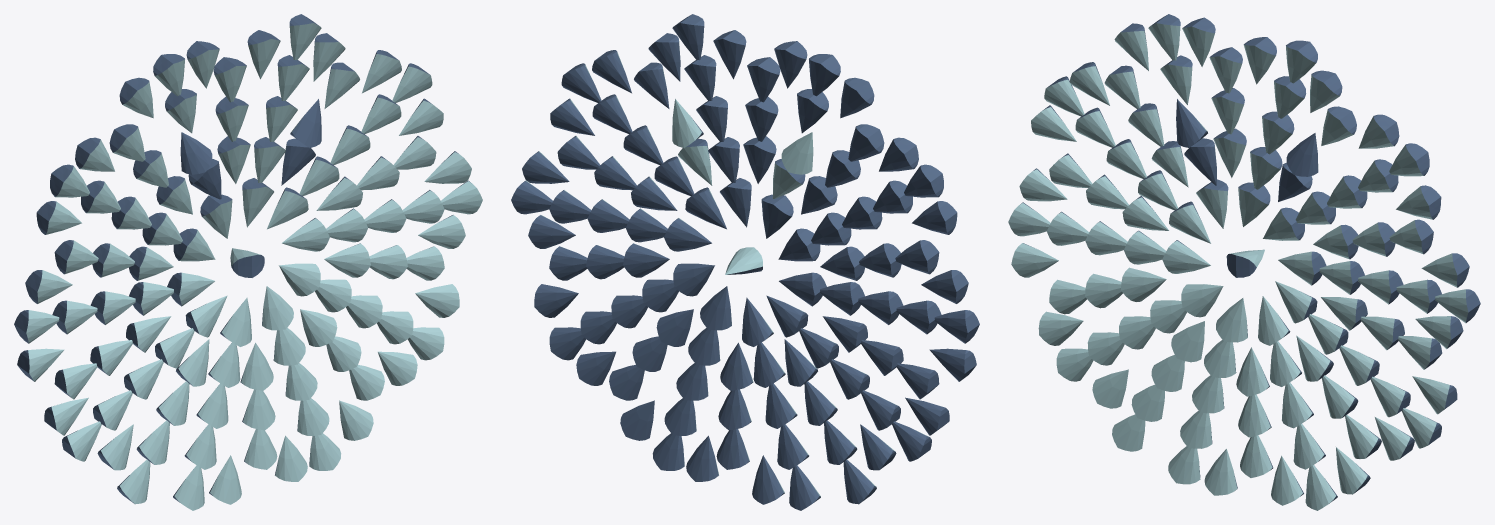
The model's file is Wedges.C.fbx.
3 views of the same model, side by side, from view 1: azimuth 30°, elevation 25°; view 2: azimuth 150°, elevation 25°; view 3: azimuth 330°, elevation 25° (orthographic).
Visible parts, largest first — view 1: Wedge.C.096, Wedge.C.049, Wedge.C.091, Wedge.C.099, Wedge.C.050, Wedge.C.048, Wedge.C.045, Wedge.C.000, Wedge.C.033, Wedge.C.010, Wedge.C.060, Wedge.C.006 (+89 smaller); view 2: Wedge.C.096, Wedge.C.049, Wedge.C.091, Wedge.C.099, Wedge.C.050, Wedge.C.048, Wedge.C.045, Wedge.C.000, Wedge.C.033, Wedge.C.010, Wedge.C.060, Wedge.C.006 (+89 smaller); view 3: Wedge.C.030, Wedge.C.080, Wedge.C.028, Wedge.C.061, Wedge.C.015, Wedge.C.076, Wedge.C.027, Wedge.C.019, Wedge.C.029, Wedge.C.069, Wedge.C.066, Wedge.C.070 (+89 smaller).
Part boxes in pixels (x1,y1,x2,y2): Wedge.C.096: (300, 309, 337, 346); Wedge.C.049: (75, 137, 114, 171); Wedge.C.091: (279, 263, 320, 296); Wedge.C.099: (378, 351, 417, 385); Wedge.C.050: (119, 77, 153, 118); Wedge.C.048: (109, 124, 145, 161); Wedge.C.045: (50, 164, 89, 197); Wedge.C.000: (339, 400, 373, 440); Wedge.C.033: (180, 132, 212, 174); Wedge.C.010: (415, 284, 459, 317); Wedge.C.060: (36, 201, 81, 234); Wedge.C.006: (324, 243, 370, 277); Wedge.C.096: (656, 309, 693, 346); Wedge.C.049: (879, 137, 918, 171); Wedge.C.091: (673, 263, 714, 296); Wedge.C.099: (576, 351, 615, 385); Wedge.C.050: (840, 77, 874, 118); Wedge.C.048: (848, 124, 884, 161); Wedge.C.045: (904, 164, 943, 197); Wedge.C.000: (620, 400, 654, 440); Wedge.C.033: (781, 132, 813, 174); Wedge.C.010: (534, 284, 578, 317); Wedge.C.060: (912, 201, 957, 234); Wedge.C.006: (623, 243, 669, 277); Wedge.C.030: (1358, 114, 1399, 148); Wedge.C.080: (1092, 369, 1128, 408); Wedge.C.028: (1321, 106, 1356, 145); Wedge.C.061: (1181, 284, 1223, 317); Wedge.C.015: (1389, 143, 1429, 176); Wedge.C.076: (1171, 321, 1204, 362); Wedge.C.027: (1286, 133, 1318, 176); Wedge.C.019: (1396, 185, 1441, 219); Wedge.C.029: (1310, 70, 1342, 112); Wedge.C.069: (1038, 311, 1083, 345); Wedge.C.066: (1121, 267, 1166, 301); Wedge.C.070: (1011, 243, 1058, 277).
Bounding box in the file's own units: 2150 × 2077 × 201.
